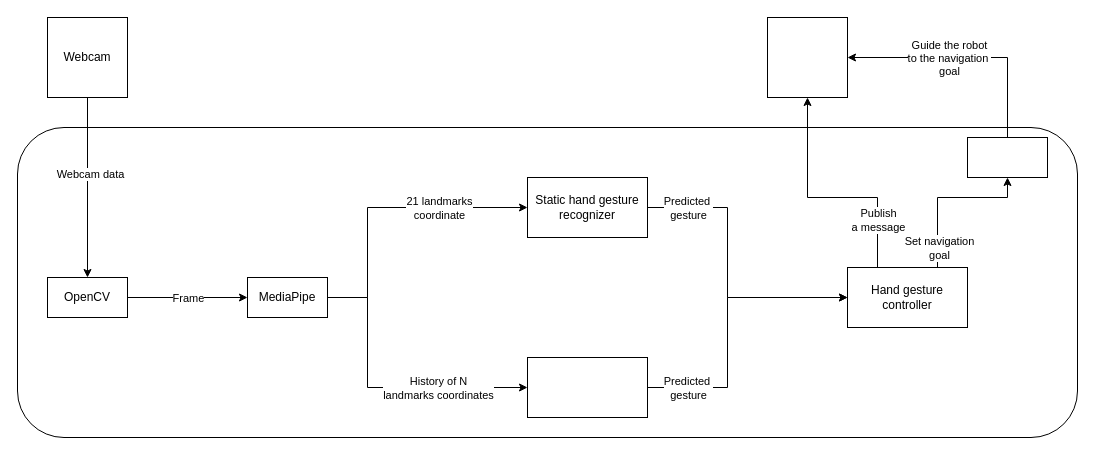
Image size: 1095x455. Some labels were removed from this diagram. Each missing label, with the centre of its shape:
Dynamic hand gesture recognizer: [587,387]
Nav2: [1007,157]
Robot: [807,57]
